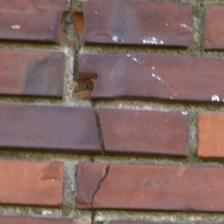Crack: (31, 2, 82, 220)
